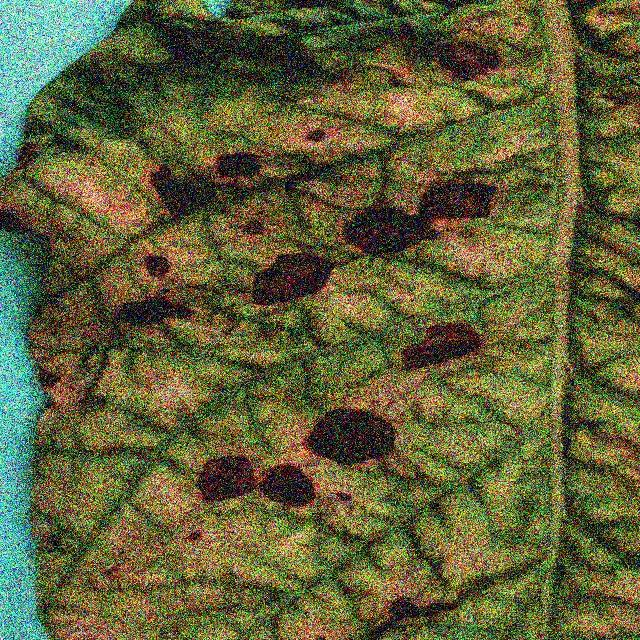leaf_spot: (6, 7, 567, 640)
